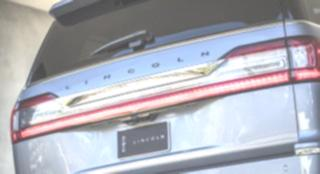lincoln: (63, 49, 214, 95)
